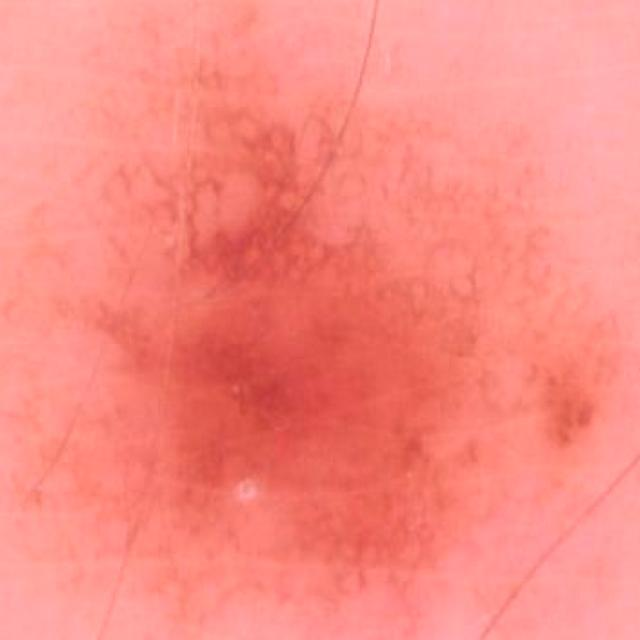NV: (23, 92, 640, 639)
